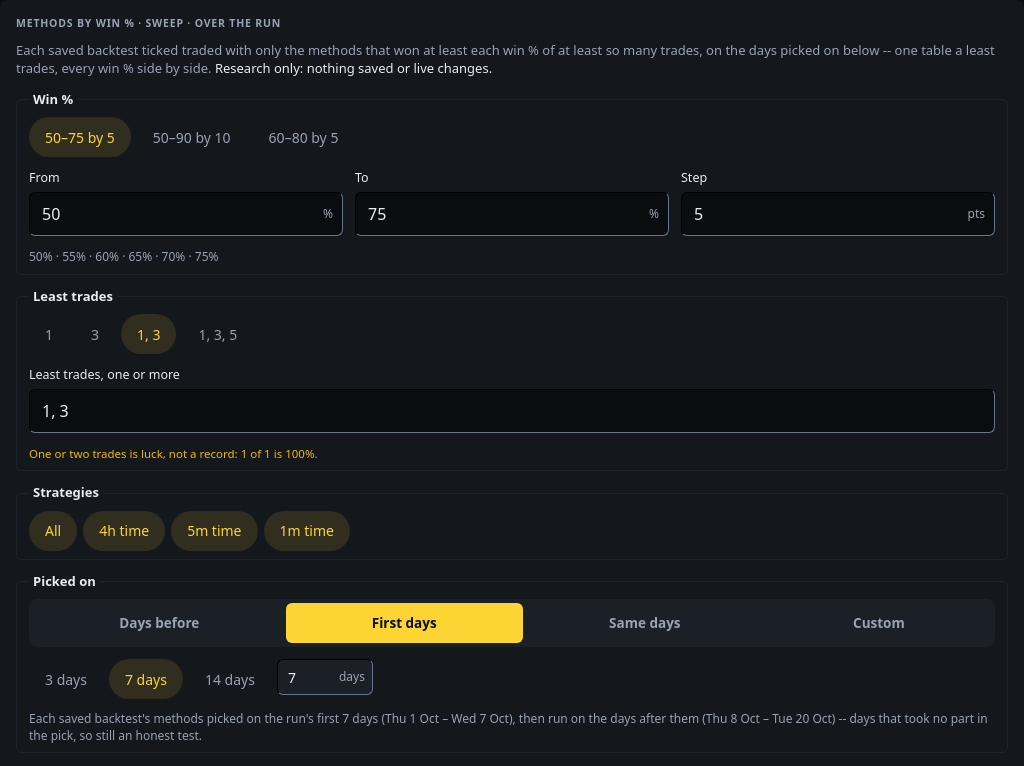
WinSweep › what cannot be swept is said, and Sweep waits for it to be put right
Expected: the radio button with aria-label "Picked on the run's first days" is checked, [286,603,523,643]
Replace the text in the number field named "Win % from" with "40" at point(186, 214), box [29,192,343,236]
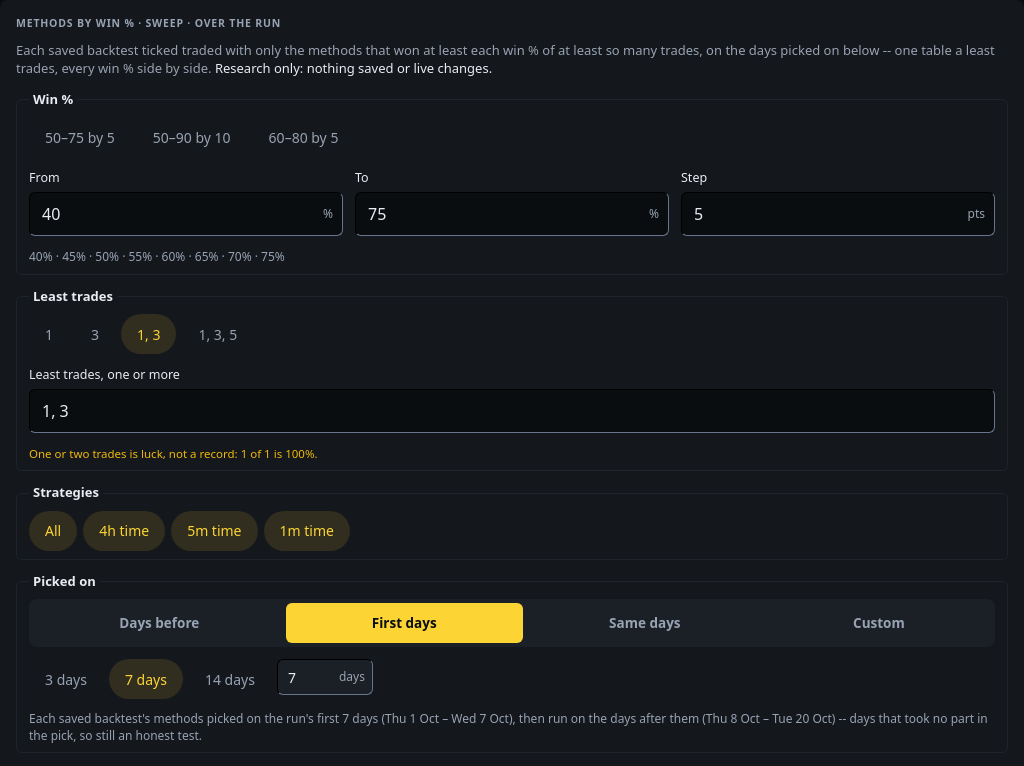
Replace the text in the number field named "Win % to" with "100" at point(512, 214), box [355,192,669,236]
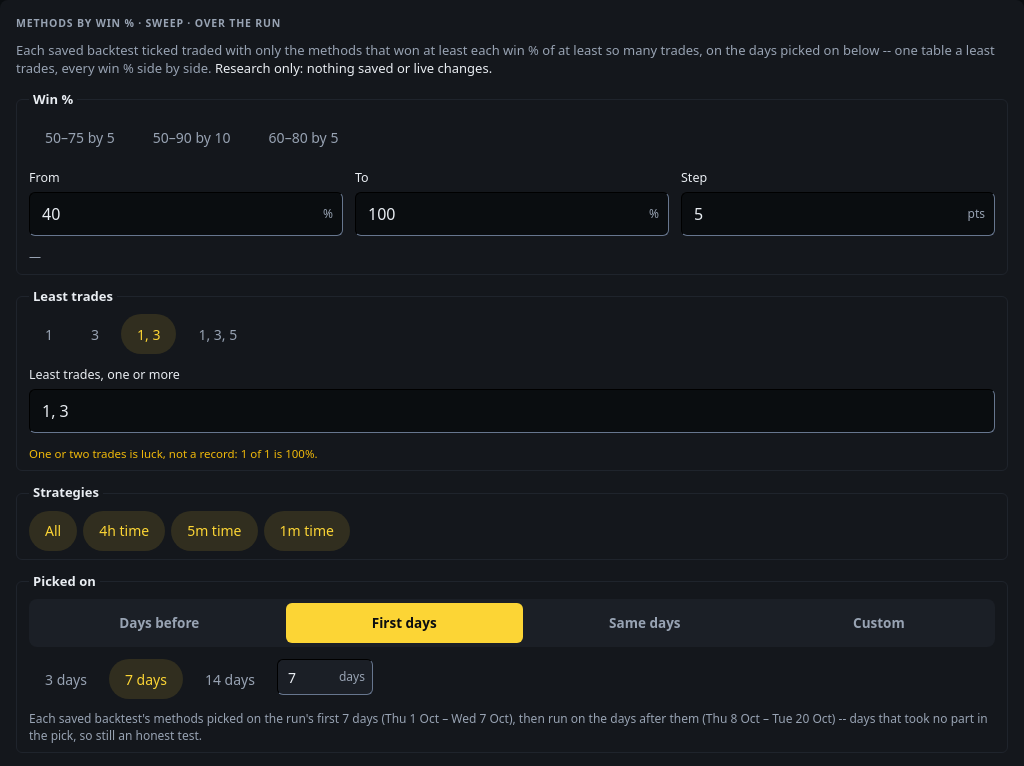
Replace the text in the number field named "Win % step" with "10" at point(838, 214), box [681,192,995,236]
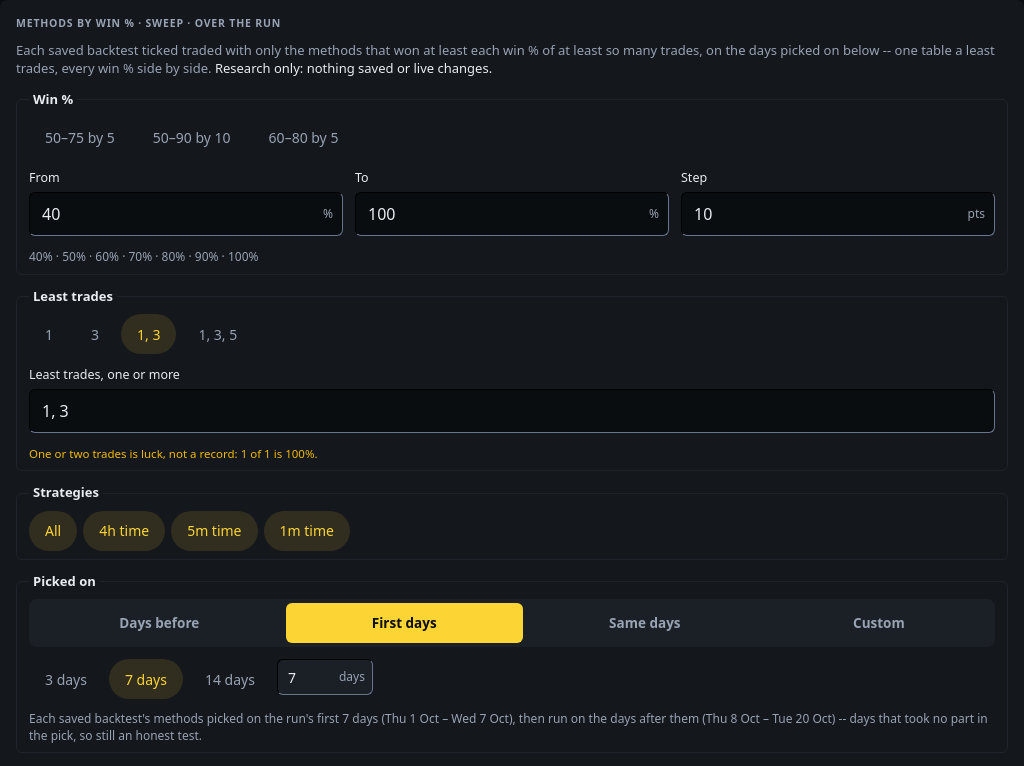
Click the button "All" at point(53, 531), box [29,511,77,551]
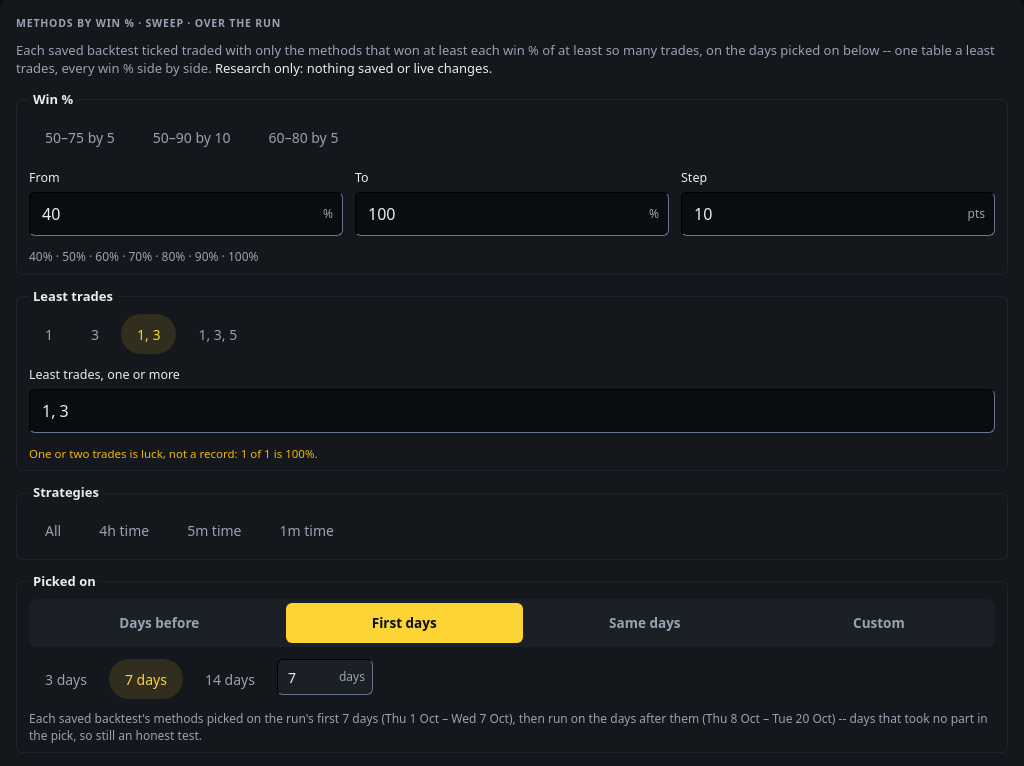
Click the button "All" at point(53, 531), box [29,511,77,551]
(page scrolled)
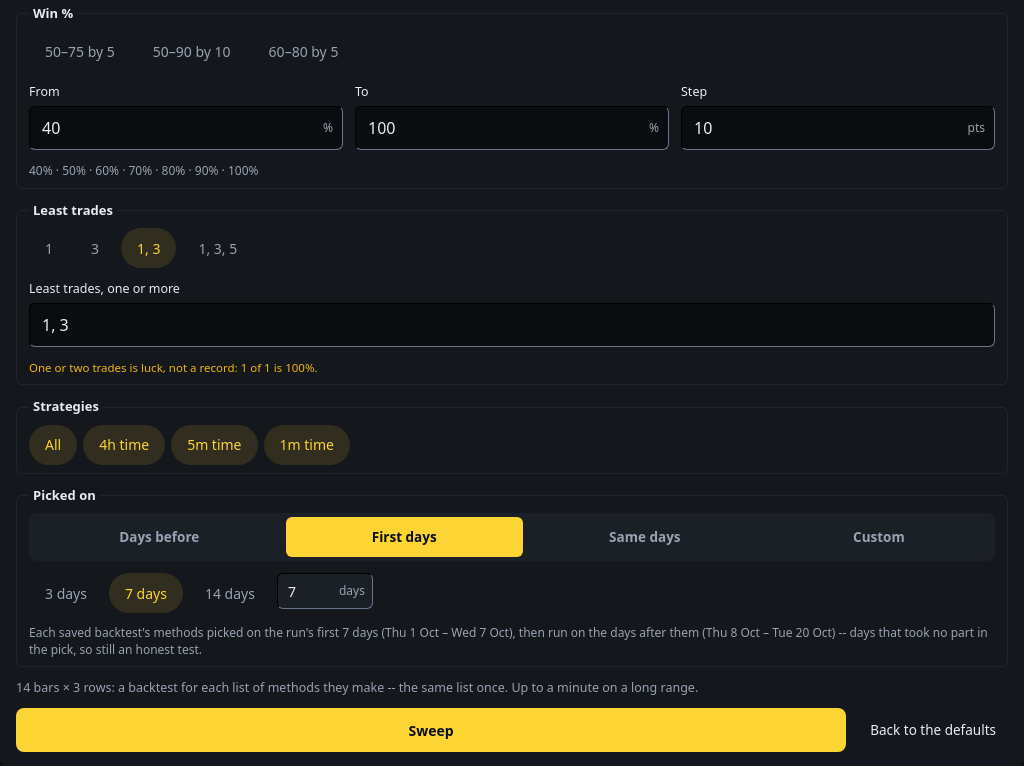
Expected: the button "Sweep" is enabled, [16,708,846,752]
